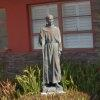Statue: (28, 7, 68, 87)
